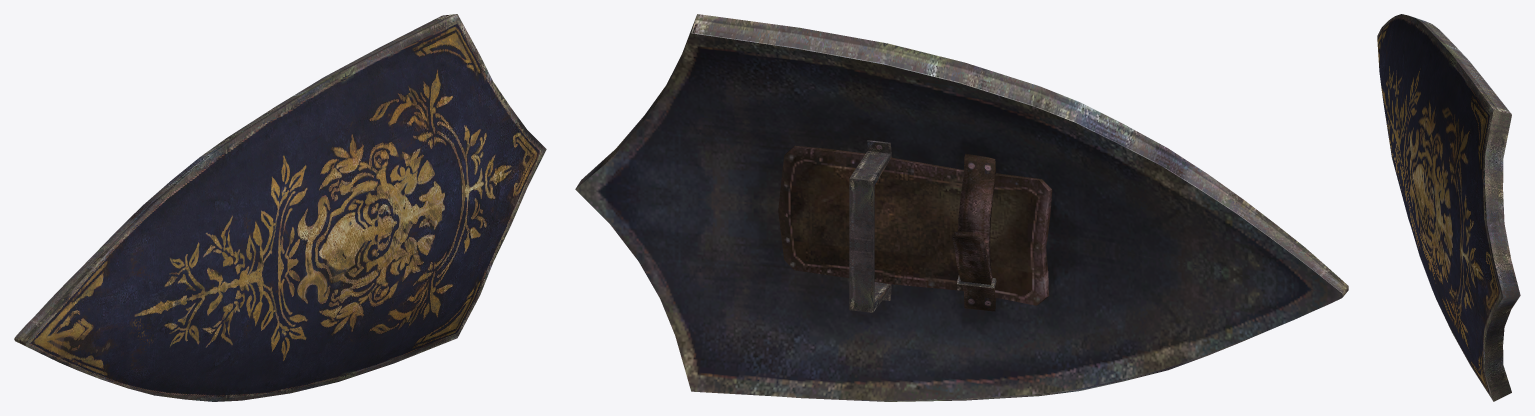
The model's file is Player_Shield.fbx.
The picture shows the model from 3 angles, left to right: view 1: azimuth 30°, elevation 25°; view 2: azimuth 150°, elevation 25°; view 3: azimuth 270°, elevation 25°; orthographic projection. The views are drawn at different scales.
Visible parts, largest first — view 1: WP_A_1535; view 2: WP_A_1535; view 3: WP_A_1535.
Part boxes in pixels (x1,y1,x2,y2): WP_A_1535: (14,14,546,401); WP_A_1535: (575,14,1348,401); WP_A_1535: (1377,14,1520,401).
Bounding box in the file's own units: 0.9215 × 0.2136 × 0.4805.
